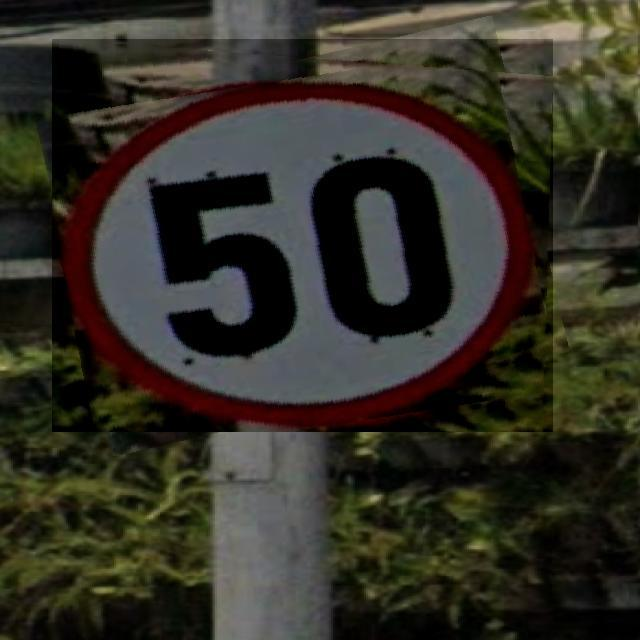50 kph: (52, 39, 553, 432)
